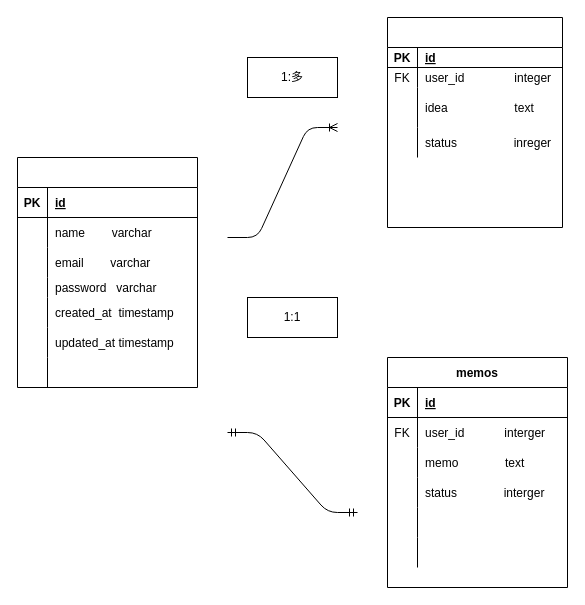
Some shapes in this 585 by 605 pixel diagram are drawn without their labels. Each missing label, with the box of its shape:
ideas: (386, 16, 562, 228)
users: (16, 156, 198, 388)
